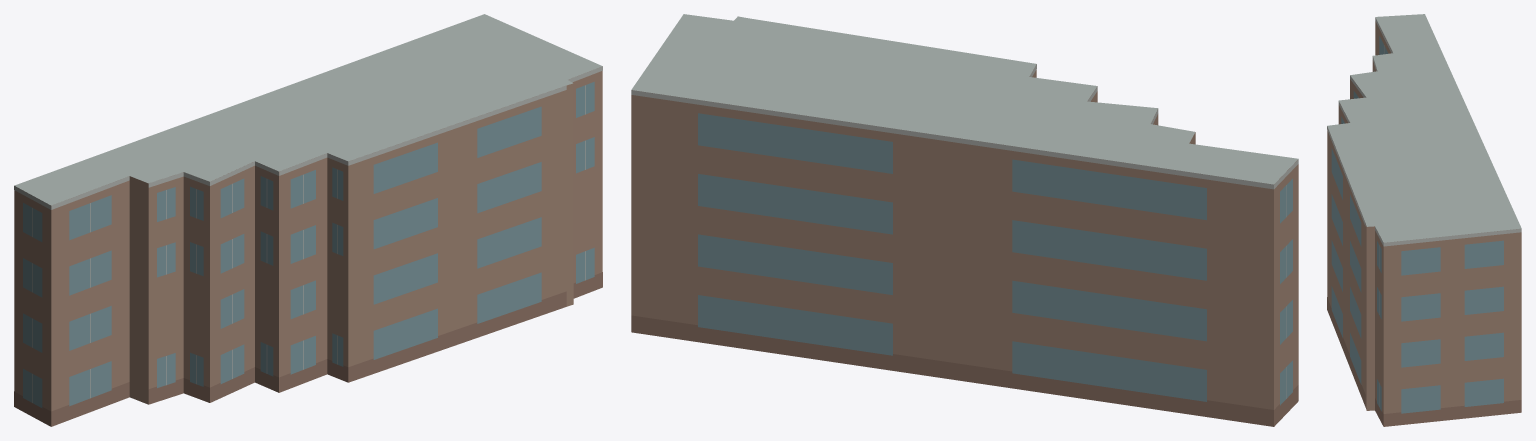
Rendered from survey-upis-32568973.glb.
3 renders of one model, left to right at view 1: azimuth 30°, elevation 25°; view 2: azimuth 150°, elevation 25°; view 3: azimuth 270°, elevation 25°, orthographic. The views are drawn at different scales.
Visible parts, largest first — view 1: survey-upis-32568973.tmp; view 2: survey-upis-32568973.tmp; view 3: survey-upis-32568973.tmp.
Part boxes in pixels (x1,y1,x2,y2): survey-upis-32568973.tmp: (14, 14, 602, 426); survey-upis-32568973.tmp: (631, 14, 1298, 426); survey-upis-32568973.tmp: (1327, 14, 1521, 426).
Bounding box in the file's own units: 32.54 × 12.2 × 11.7.
